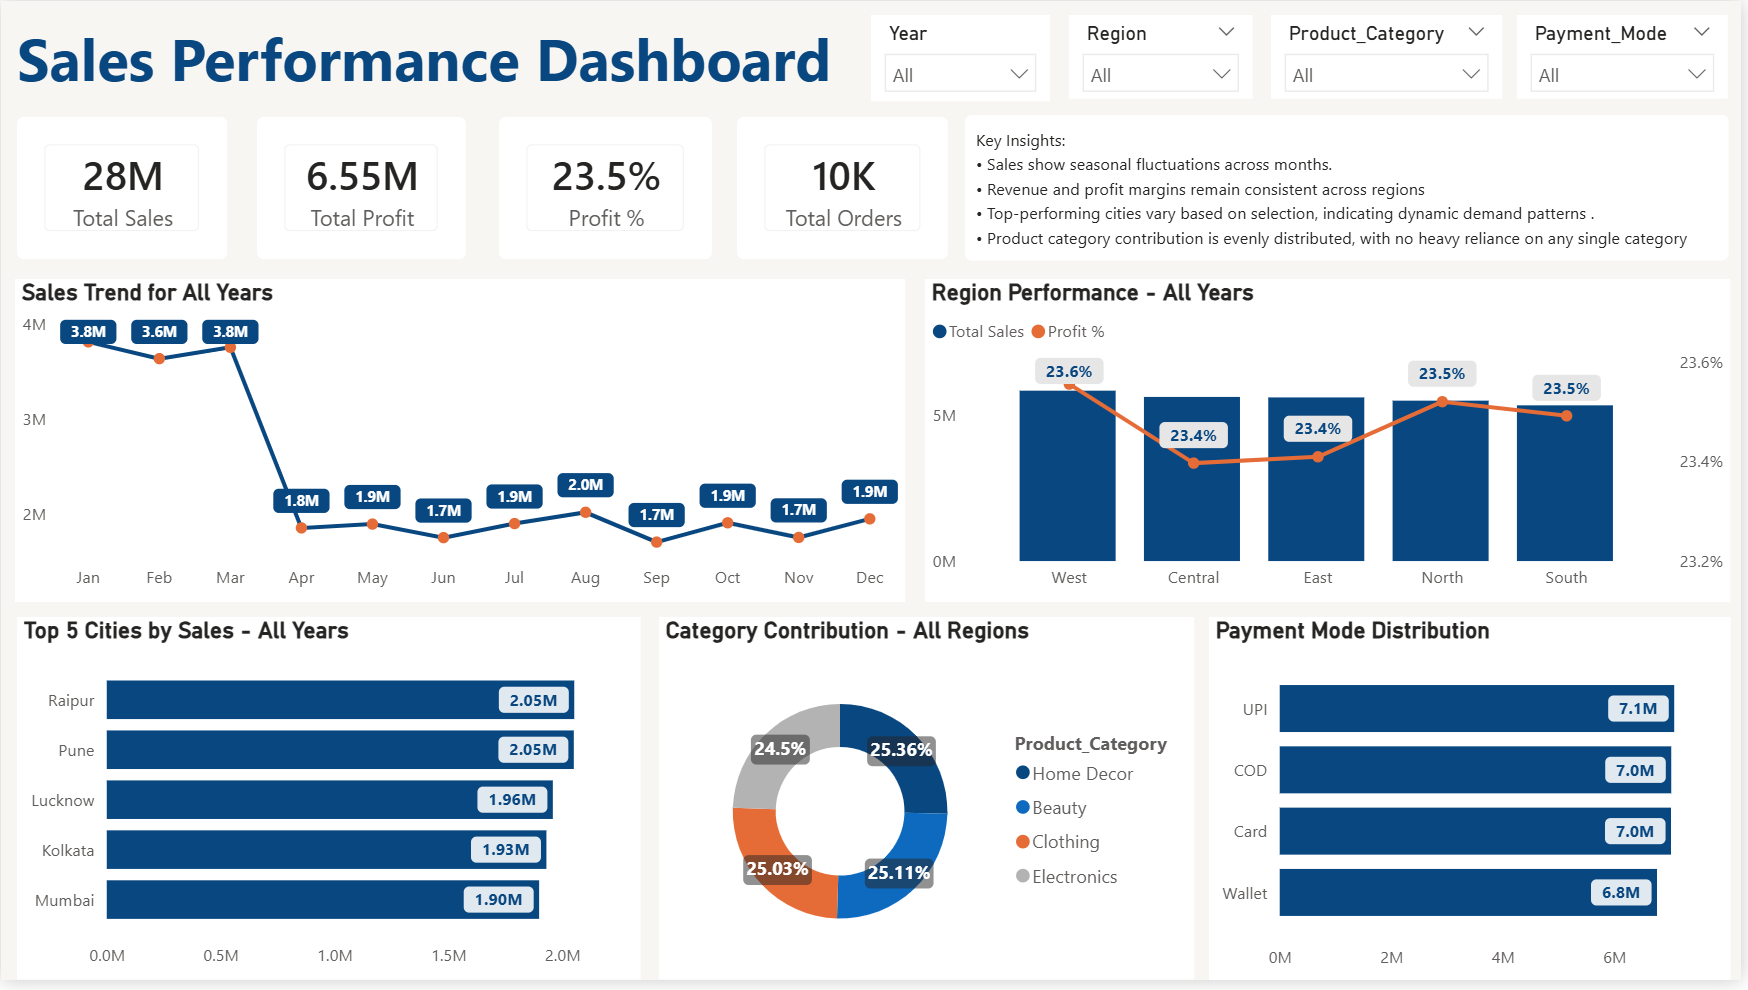

The page's visual inventory and layout, read from the dashboard file:
{"tool":"powerbi","page":{"name":"Page 1","canvas":[1280,720],"ordinal":0},"visuals":[{"type":"shape","box":[11.1,0,1270.5,82.3],"z":0},{"type":"slicer","fields":{"Values":["Sales_data.Year"]},"box":[640,10,131.7,63.3],"z":1000},{"type":"slicer","fields":{"Values":["Sales_data.Region"]},"box":[785,10,135,61.7],"z":2000},{"type":"slicer","fields":{"Values":["Sales_data.Product_Category"]},"box":[933.3,10,170,61.7],"z":4000},{"type":"slicer","fields":{"Values":["Sales_data.Payment_Mode"]},"box":[1115,10,155,61.7],"z":5000},{"type":"cardVisual","fields":{"Data":["Meazures.Total Sales"]},"box":[11.6,84.9,154.4,104.3],"z":6000},{"type":"cardVisual","fields":{"Data":["Meazures.Total Profit"]},"box":[188.3,85.4,153.5,104.4],"z":7000},{"type":"cardVisual","fields":{"Data":["Meazures.Profit %"]},"box":[365.5,85.4,156.6,104.4],"z":8000},{"type":"cardVisual","fields":{"Data":["Meazures.Total Orders"]},"box":[541.1,85.4,155.1,104.4],"z":9000},{"type":"lineChart","fields":{"Category":["Sales_data.Month"],"Y":["Meazures.Total Sales"]},"box":[10.9,204.6,654.4,237.4],"z":10000},{"type":"donutChart","fields":{"Y":["Meazures.Total Sales"],"Category":["Sales_data.Product_Category"]},"box":[483.3,453.3,393.3,266.7],"z":11000},{"type":"lineClusteredColumnComboChart","fields":{"Y":["Meazures.Total Sales"],"Y2":["Meazures.Profit %"],"Category":["Sales_data.Region"]},"box":[679.4,204.6,591.9,237.4],"z":12000},{"type":"barChart","title":"Payment Mode Distribution","fields":{"Category":["Sales_data.Payment_Mode"],"Y":["Meazures.Total Sales"]},"box":[888.3,453.3,383.3,268.3],"z":13000},{"type":"barChart","fields":{"Category":["Sales_data.City"],"Y":["Meazures.Total Sales"]},"box":[11.7,453.3,458.3,266.7],"z":14000},{"type":"textbox","box":[708.6,84.3,561.4,107.1],"z":16000}]}

Visuals, with their boxes in screenshot pixels (x1, y1, x2, y2), scaled from the page's 1280x720 canvas onto the 1748x990 screenshot:
shape: box=[15, 0, 1747, 113]
slicer - Sales_data.Year: box=[874, 14, 1054, 101]
slicer - Sales_data.Region: box=[1072, 14, 1256, 99]
slicer - Sales_data.Product_Category: box=[1275, 14, 1507, 99]
slicer - Sales_data.Payment_Mode: box=[1523, 14, 1734, 99]
cardVisual - Meazures.Total Sales: box=[16, 117, 227, 260]
cardVisual - Meazures.Total Profit: box=[257, 117, 467, 261]
cardVisual - Meazures.Profit %: box=[499, 117, 713, 261]
cardVisual - Meazures.Total Orders: box=[739, 117, 951, 261]
lineChart - Sales_data.Month x Meazures.Total Sales: box=[15, 281, 909, 608]
donutChart - Meazures.Total Sales x Sales_data.Product_Category: box=[660, 623, 1197, 989]
lineClusteredColumnComboChart - Meazures.Total Sales x Meazures.Profit %: box=[928, 281, 1736, 608]
"Payment Mode Distribution" barChart: box=[1213, 623, 1737, 989]
barChart - Sales_data.City x Meazures.Total Sales: box=[16, 623, 642, 989]
textbox: box=[968, 116, 1734, 263]
